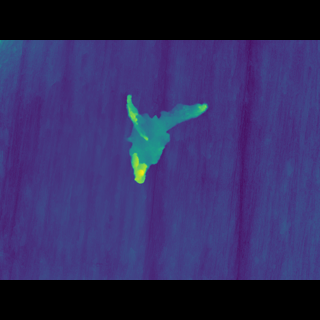Loch: (121, 109, 210, 179)
